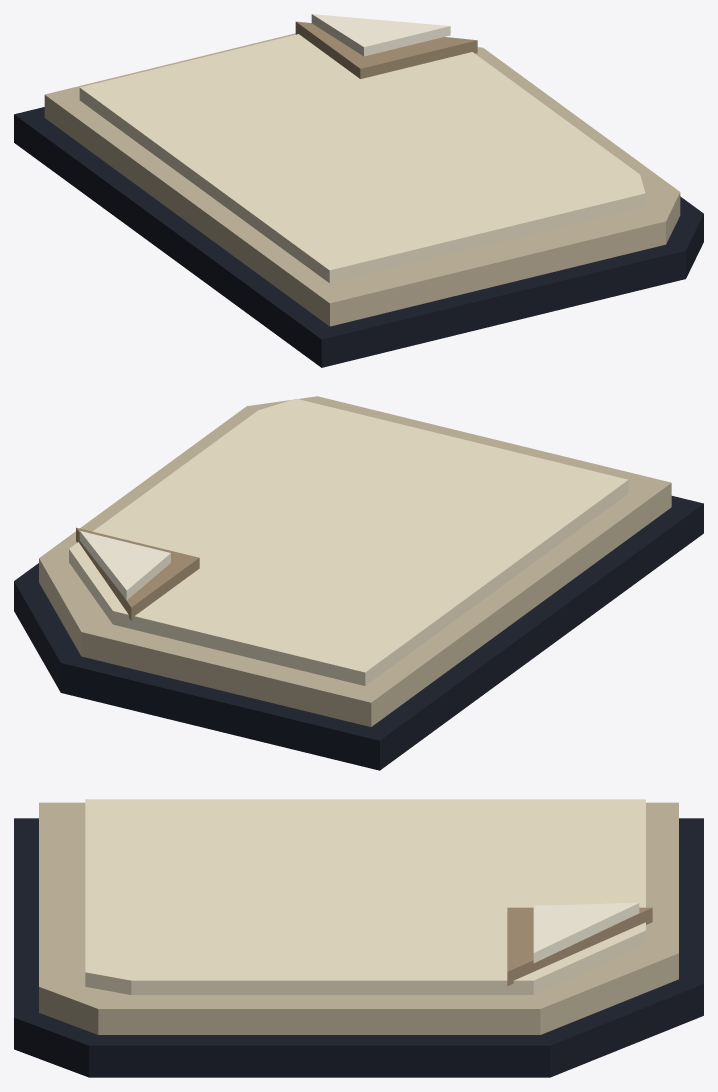
Rendered from paper.fbx.
The picture shows the model from 3 angles, top to bottom: view 1: azimuth 30°, elevation 25°; view 2: azimuth 150°, elevation 25°; view 3: azimuth 270°, elevation 25°; orthographic projection. The views are drawn at different scales.
Parts seen in each view (by area): view 1: paper; view 2: paper; view 3: paper.
Boxes of the visible parts, x1,y1,x2,y2 form: paper: [14, 14, 703, 367]; paper: [14, 396, 703, 770]; paper: [14, 799, 703, 1077].
Size of the model in its own units: 0.8425 by 0.163 by 1.08.
Materials: 1 (1 with a texture image).
